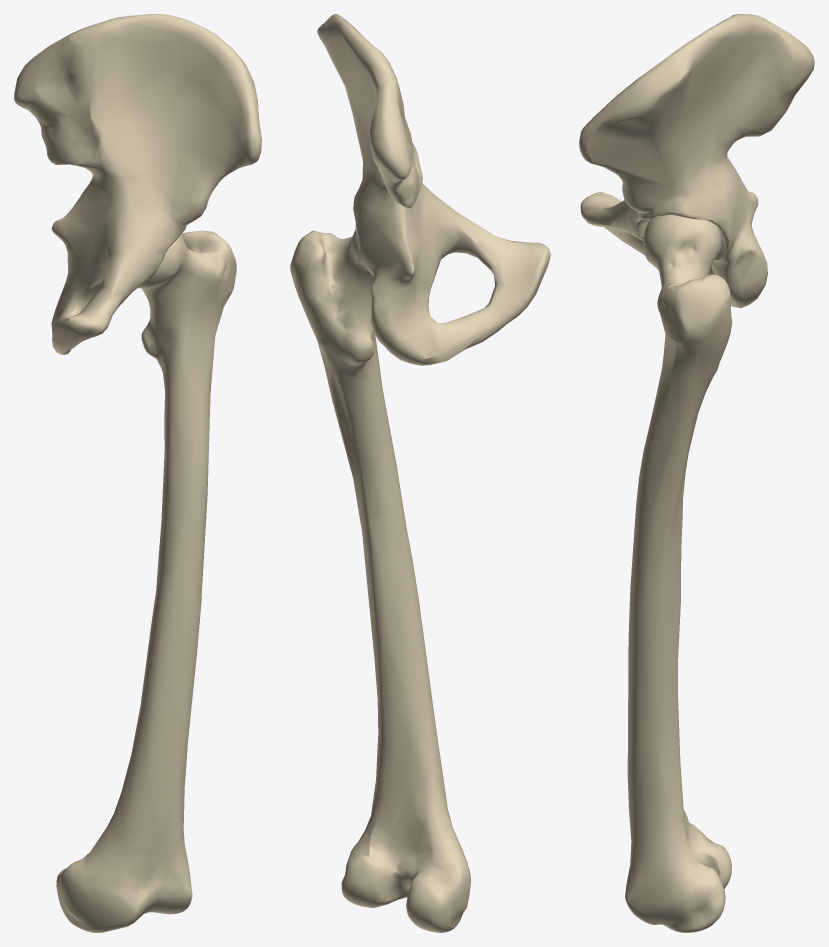
Rendered from hipb.glb.
3 renders of one model, left to right at view 1: azimuth 30°, elevation 25°; view 2: azimuth 150°, elevation 25°; view 3: azimuth 270°, elevation 25°, orthographic. The views are drawn at different scales.
Parts seen in each view (by area): view 1: left hip bone, left femur; view 2: left femur, left hip bone; view 3: left femur, left hip bone.
Boxes of the visible parts, bbox=[...] form: left hip bone: bbox=[14, 14, 261, 354]; left femur: bbox=[56, 230, 236, 932]; left femur: bbox=[290, 229, 470, 932]; left hip bone: bbox=[317, 14, 550, 365]; left femur: bbox=[625, 215, 732, 932]; left hip bone: bbox=[579, 14, 814, 308].
Size of the model in its own units: 0.1475 by 0.59 by 0.1378.
